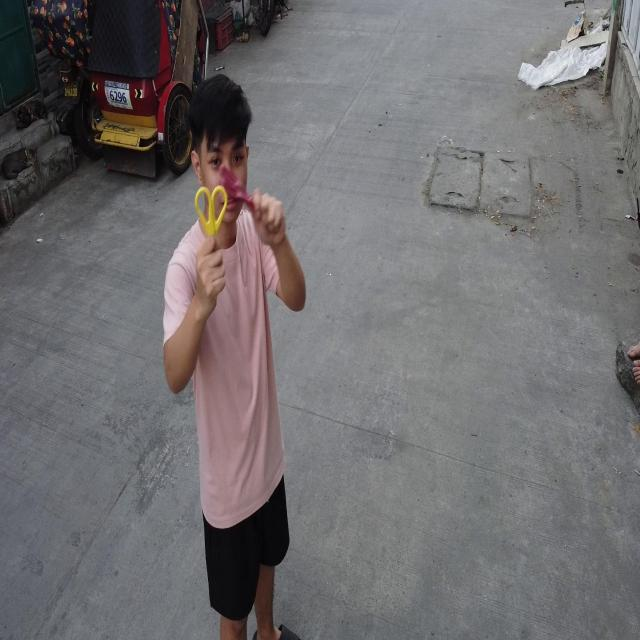scissor: (195, 184, 227, 249), (219, 166, 255, 216)
